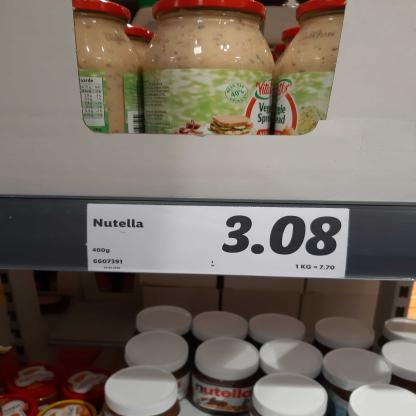prtg: (88, 204, 350, 280)
